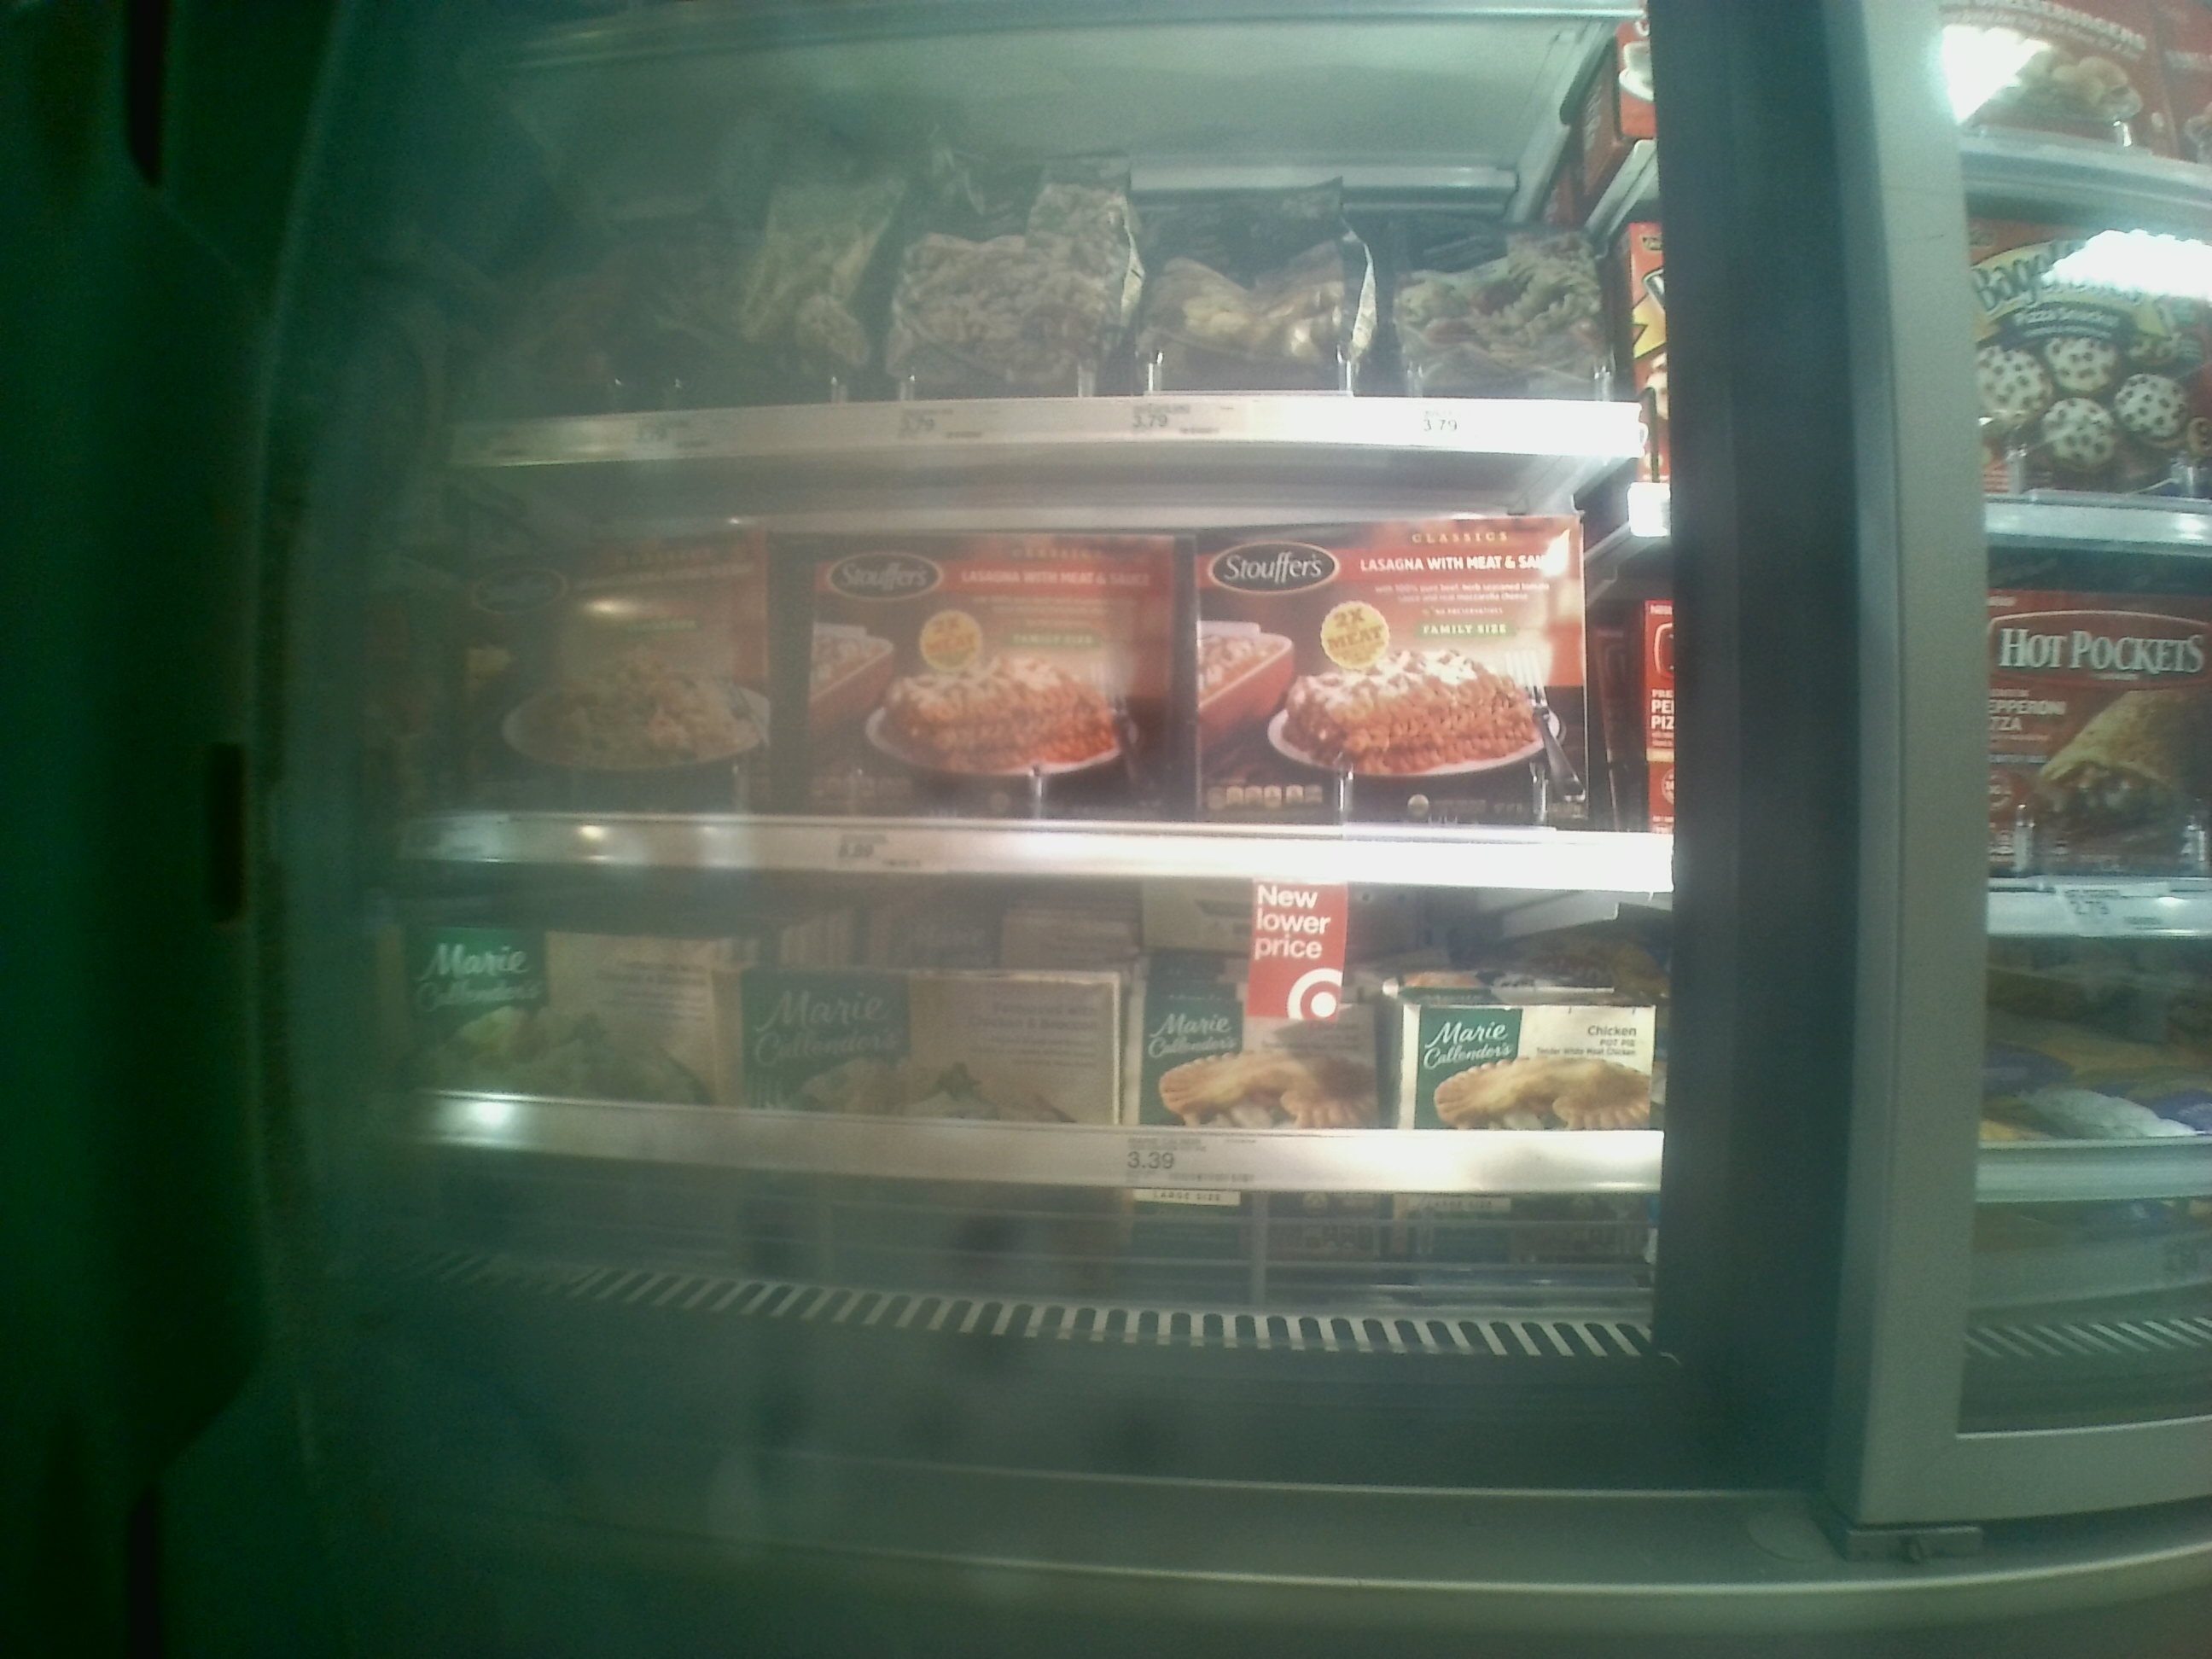shelf: (411, 469, 1679, 885), (395, 873, 1679, 1284)
